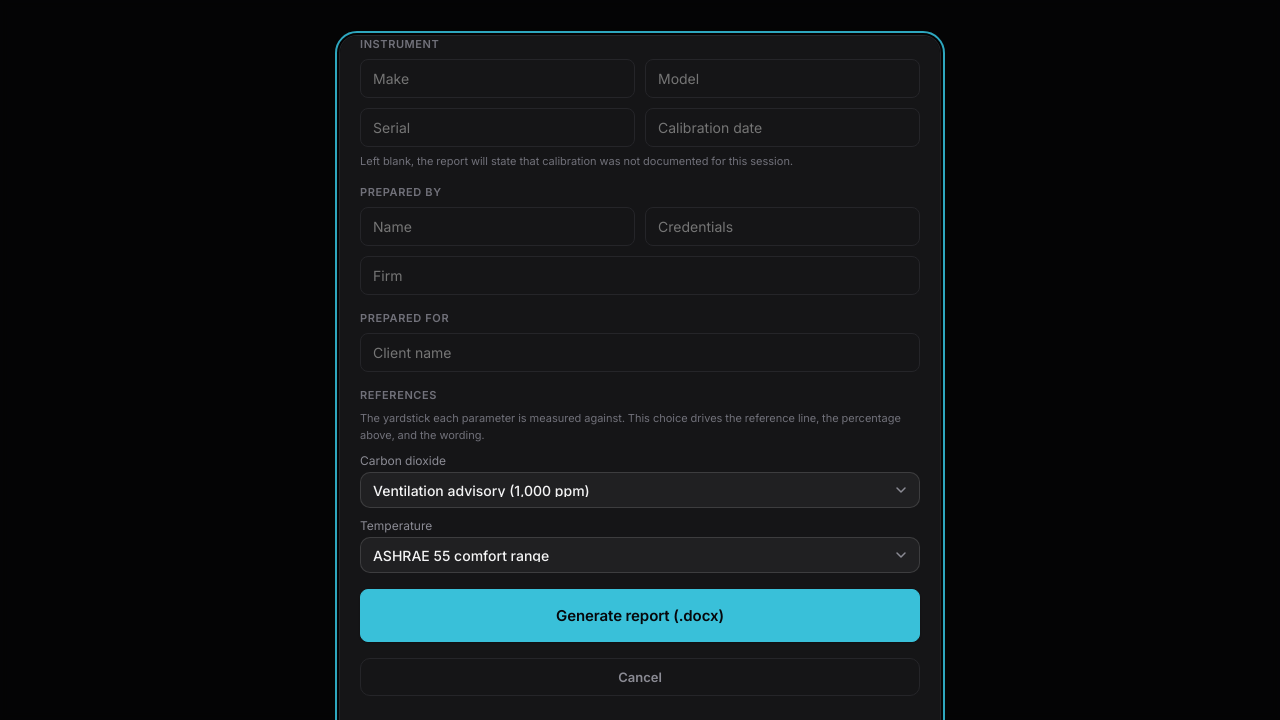
Test case: failure is reported, never swallowed › confirms with the file name on success
This screenshot has width=1280, height=720.
(page scrolled)
Click the button "Generate report (.docx)" at (640, 616), box [360,589,920,642]
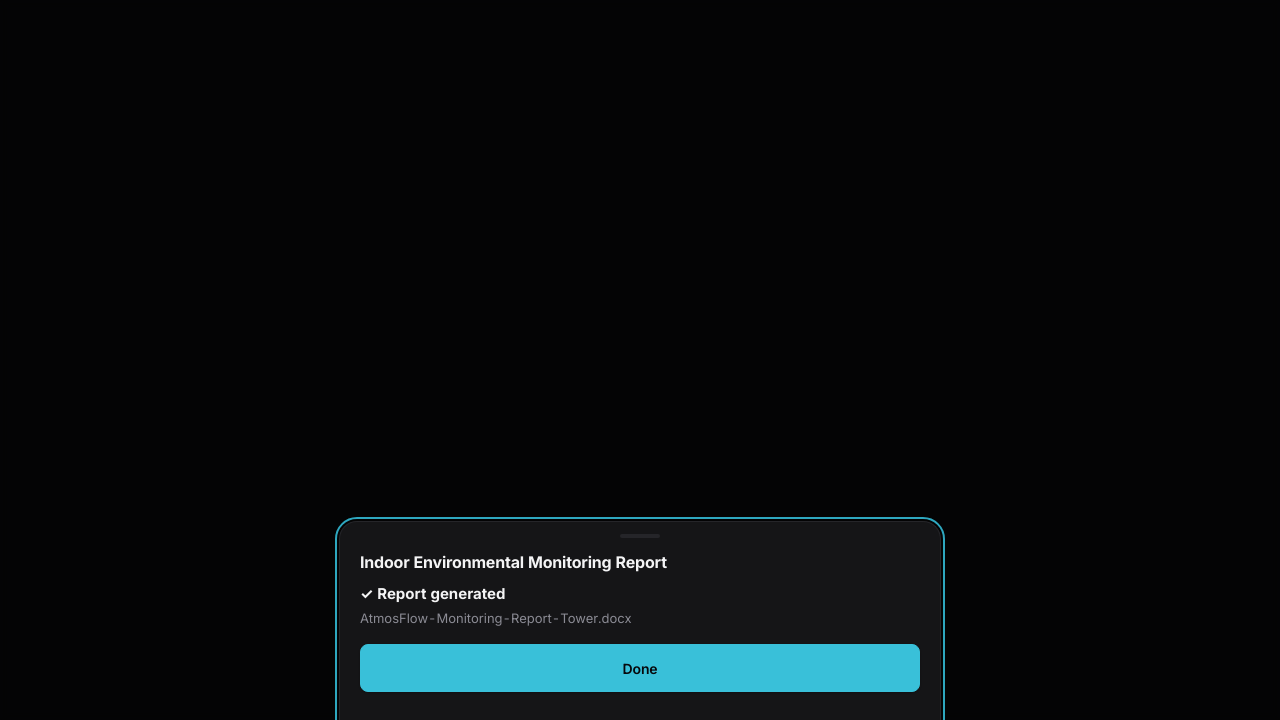
Expected: the text "✓ Report generated" is shown, [360,584,506,602]
Expected: the text "AtmosFlow-Monitoring-Report-Tower.docx" is shown, [360,610,632,626]
